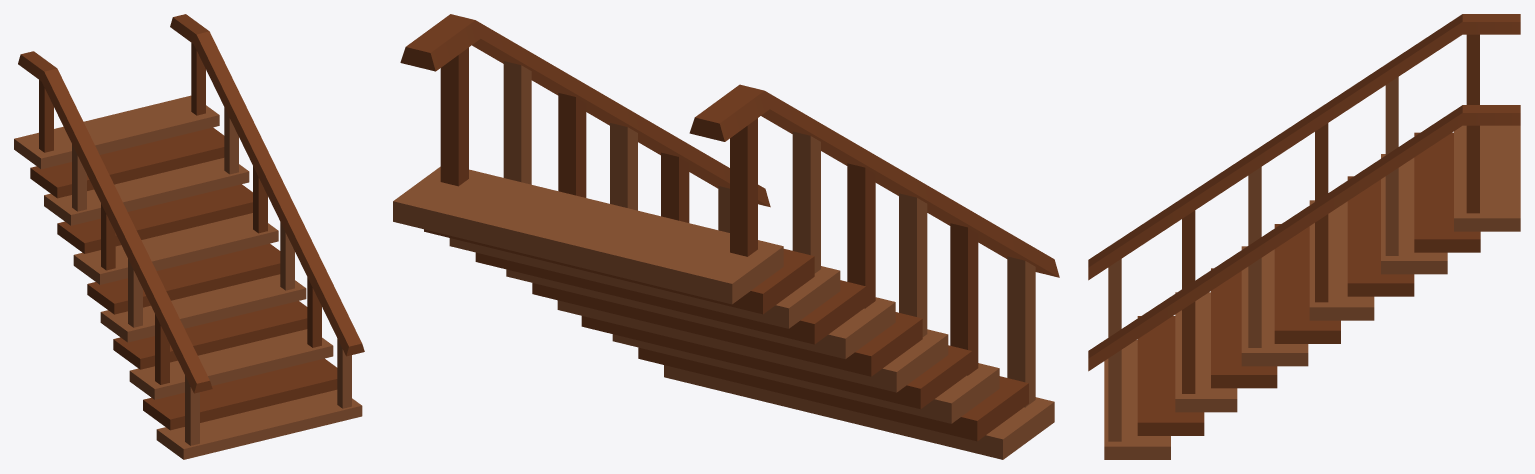
Rendered from Stairs_1.fbx.
The picture shows the model from 3 angles, left to right: view 1: azimuth 30°, elevation 25°; view 2: azimuth 150°, elevation 25°; view 3: azimuth 270°, elevation 25°; orthographic projection. The views are drawn at different scales.
Visible parts, largest first — view 1: polySurface1482; view 2: polySurface1482; view 3: polySurface1482.
Boxes of the visible parts, x1=… form: polySurface1482: x1=14, y1=14, x2=364, y2=459; polySurface1482: x1=393, y1=14, x2=1059, y2=459; polySurface1482: x1=1088, y1=14, x2=1520, y2=459.
Bounding box in the file's own units: 3.8 × 5.69 × 6.5.
Materials: 1 (1 with a texture image).
